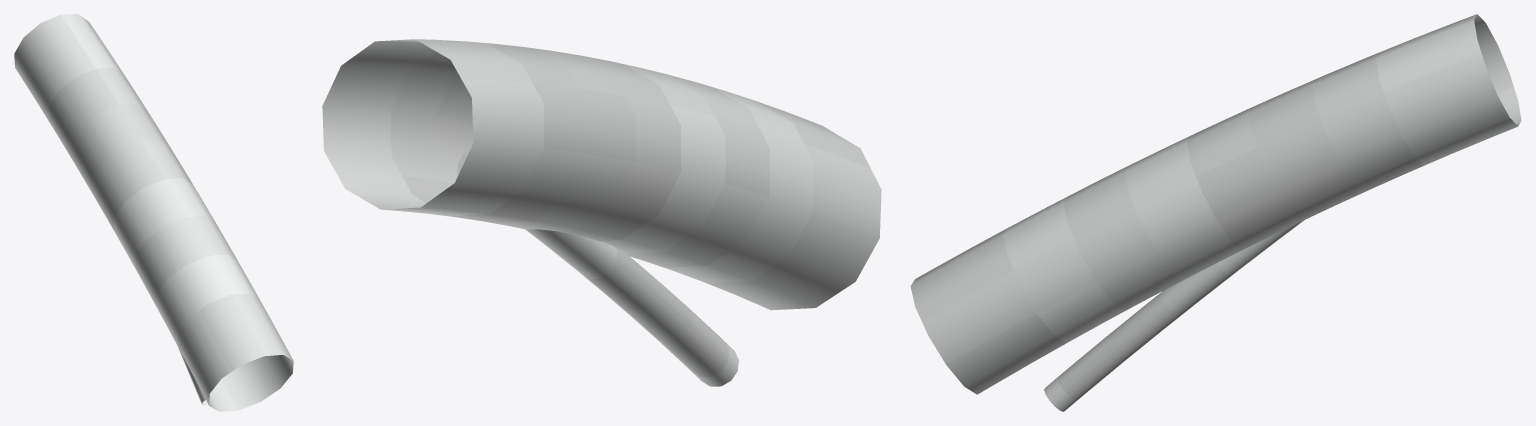
The model's file is luminairearm_laupsweep10ft_c4.obj.
3 renders of one model, left to right at view 1: azimuth 30°, elevation 25°; view 2: azimuth 150°, elevation 25°; view 3: azimuth 270°, elevation 25°, orthographic. The views are drawn at different scales.
Visible parts, largest first — view 1: luminairearm_laupsweep10ft_c4; view 2: luminairearm_laupsweep10ft_c4; view 3: luminairearm_laupsweep10ft_c4.
Boxes of the visible parts, x1,y1,x2,y2 form: luminairearm_laupsweep10ft_c4: (14, 14, 293, 411); luminairearm_laupsweep10ft_c4: (322, 39, 881, 386); luminairearm_laupsweep10ft_c4: (910, 14, 1521, 411).
Size of the model in its own units: 0.2406 by 0.7803 by 1.11.
